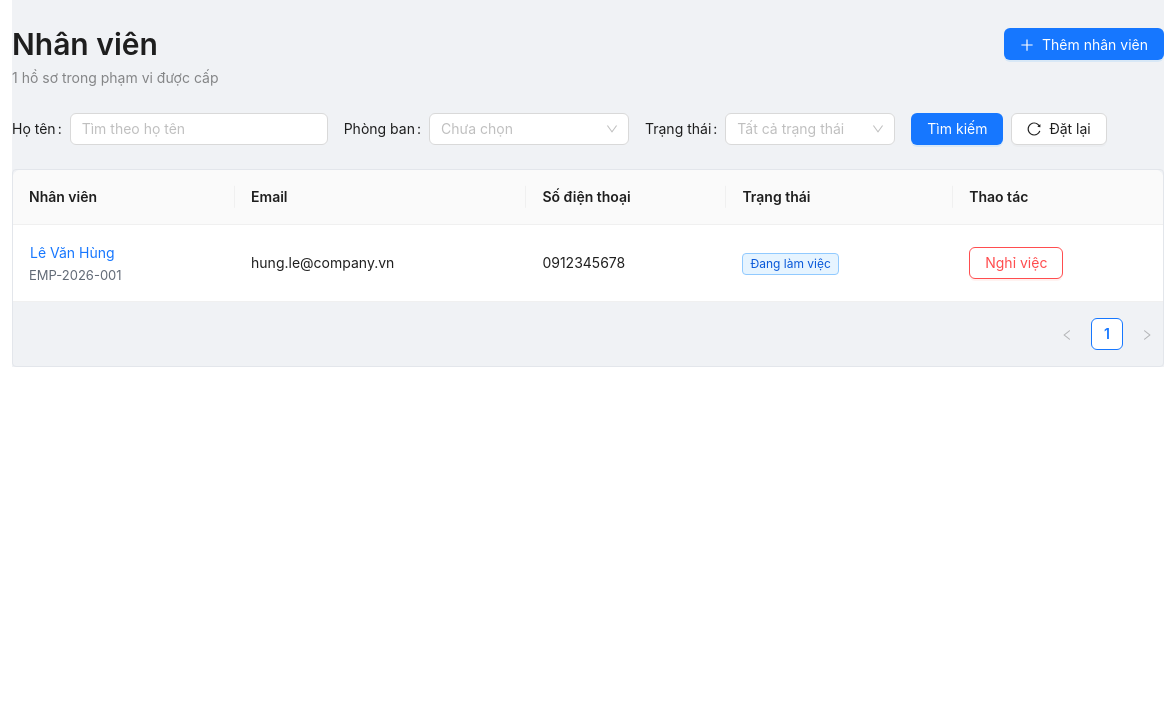
Personnel 2026-11-16 Contract Validation, Concurrency & HR Scope Tests › 4. Sensitive stale data purge on 403 Forbidden / HR Scope denial › regression test: preloaded cached data is wiped, drawer is closed and DOM has no PII when scope is revoked mid-session
Expected: the text "Lê Văn Hùng" is shown, [30,242,115,264]
Note: Open drawer
Click the button "Lê Văn Hùng" at (80, 253), box [29,241,131,265]
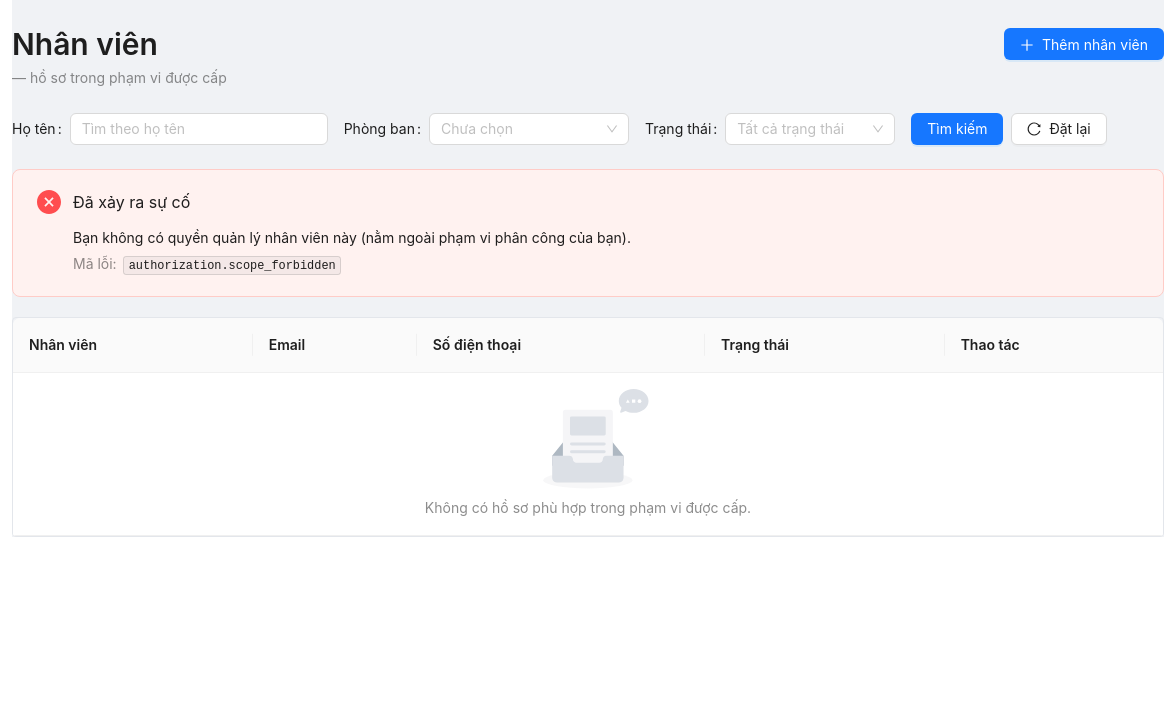
Now the text "Bạn không có quyền quản lý nhân viên này (nằm ngoài phạm vi phân công của bạn)." is shown, box [73,229,631,246]
Now the text "EMP-2026-001" is gone
Now the button "Lê Văn Hùng" is gone
